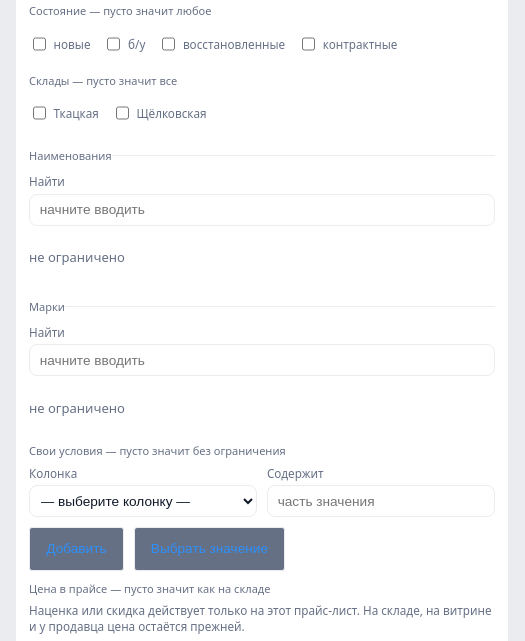
Test: сторож размонтирования на выгрузках › в StrictMode марка находится в отборе, а не пропадает вместе с кэшем
(page scrolled)
Expected: the element showing "Марки Найти не ограничено" is shown, [29,299,495,433]
Type "той" into the field labelled "Найти" below "Марки".
click(262, 360); type("той")  # box [29,344,495,376]
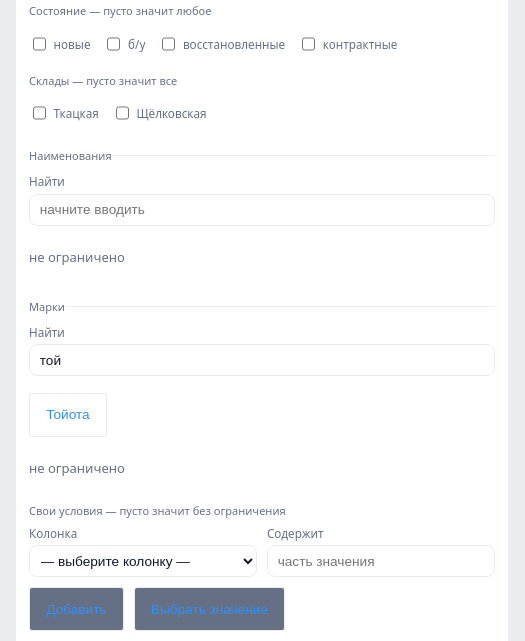
Expected: the button "Тойота" is shown, [29,392,107,436]
